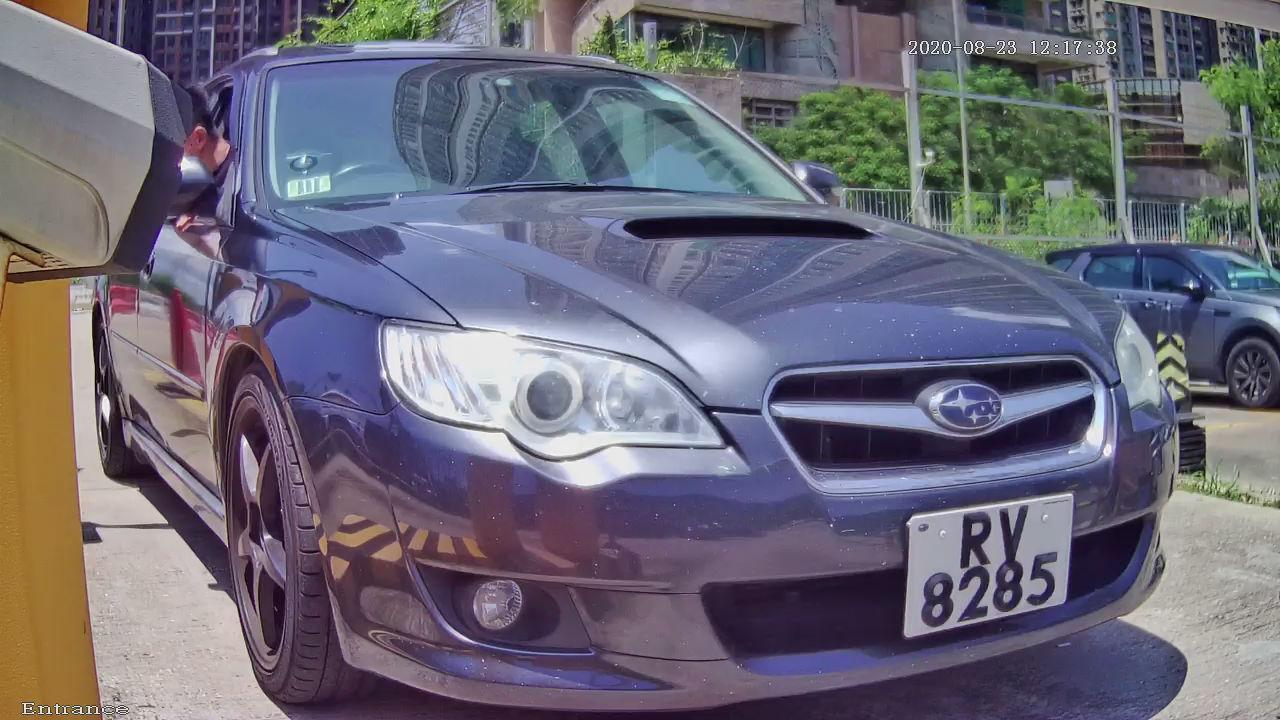Car: (58, 7, 1280, 720)
License Plate: (898, 486, 1075, 653)
